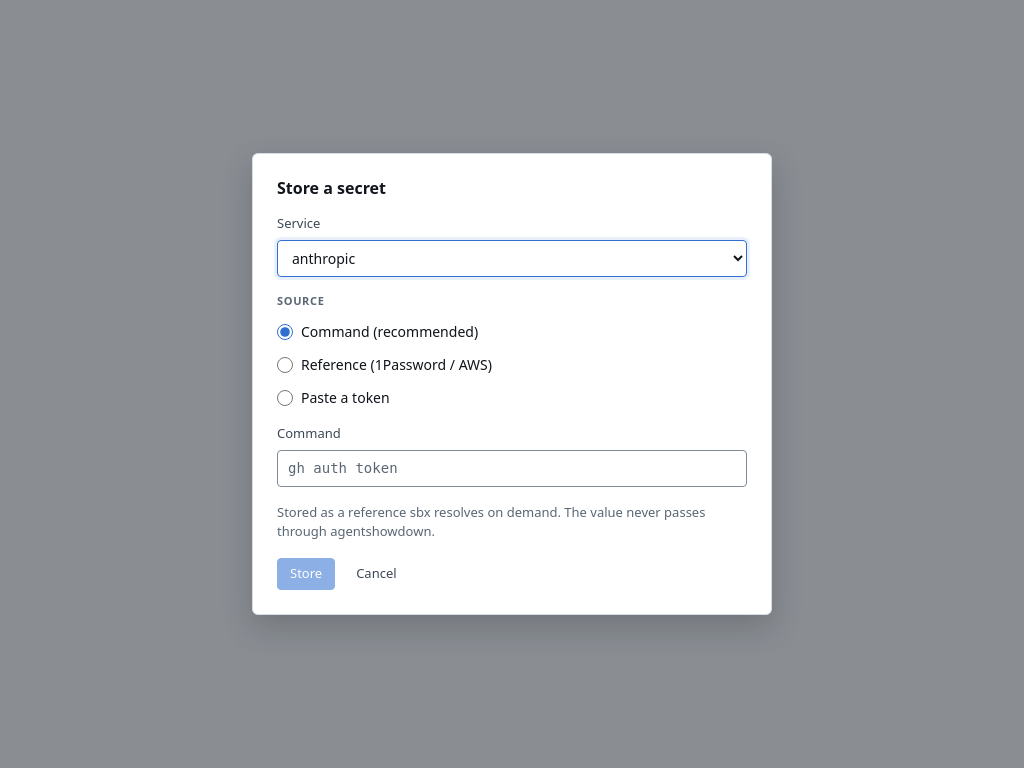
Test: SecretModal › warns that a pasted token is less secure
Click the radio button labelled "Paste a token" at point(285, 398), box [277,390,293,406]
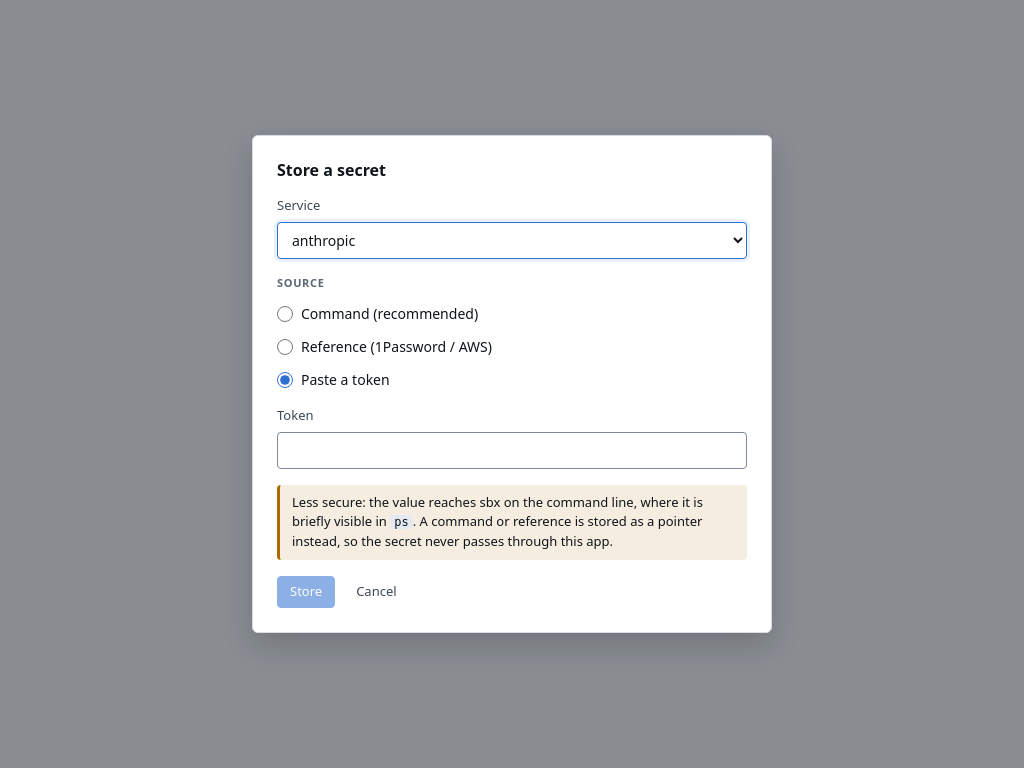
Check: the message shows "Less secure", box [292,493,703,530]
